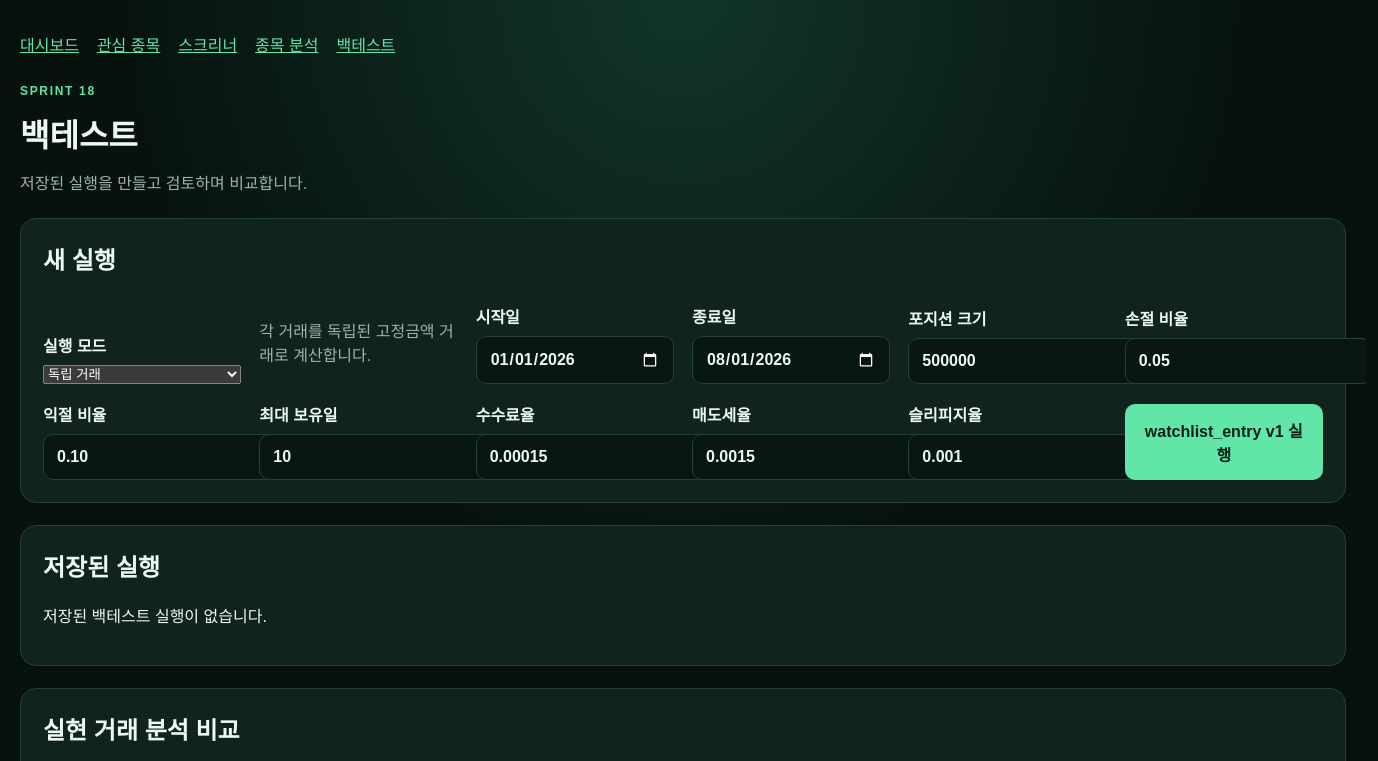
Test: run creation › shows network failure
Check: the text "저장된 백테스트 실행이 없습니다." is shown, box [43, 608, 267, 625]
What coordinates should you click on to do the following:
click the button "watchlist_entry v1 실행"
I would click on:
 (1224, 442)
Its box is [1125, 404, 1323, 480].
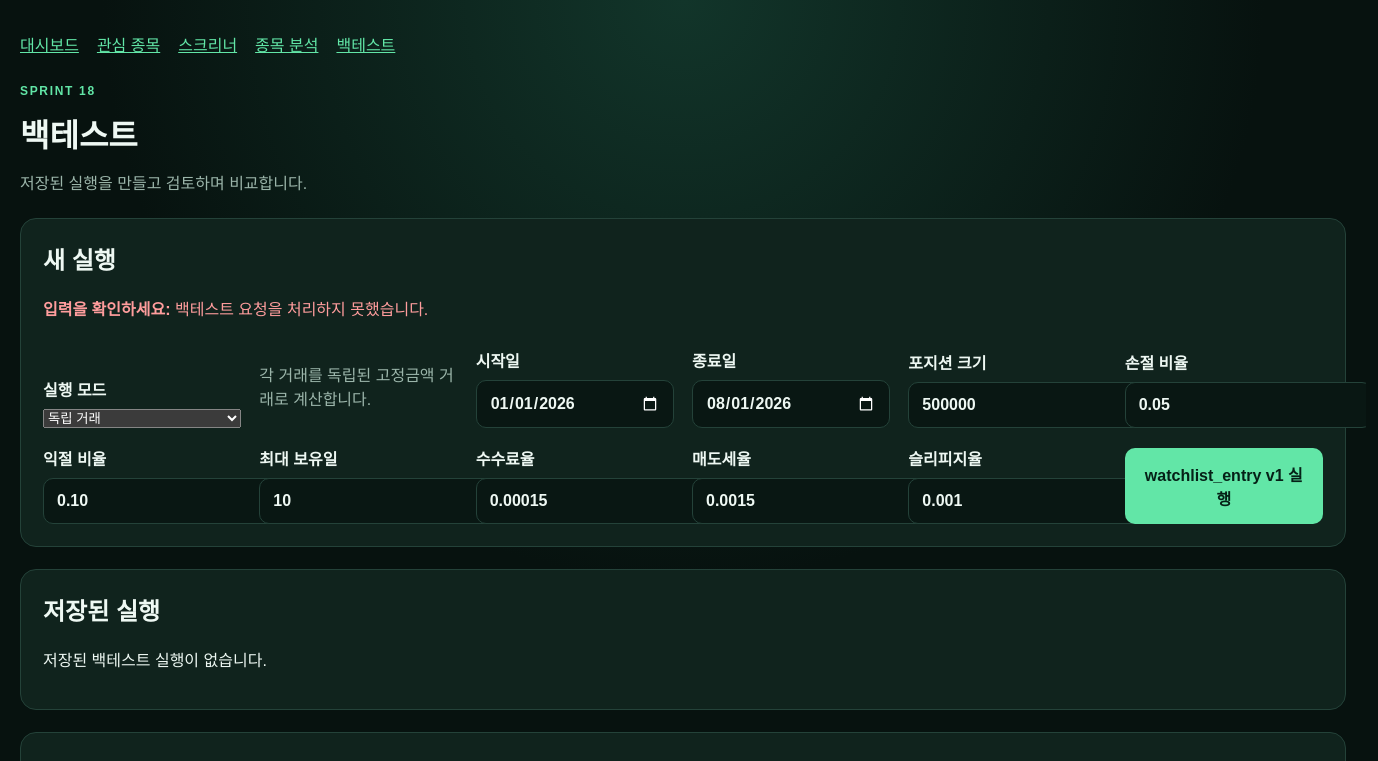
Check: the message shows "백테스트 요청을 처리하지 못했습니다.", box [175, 301, 428, 318]
